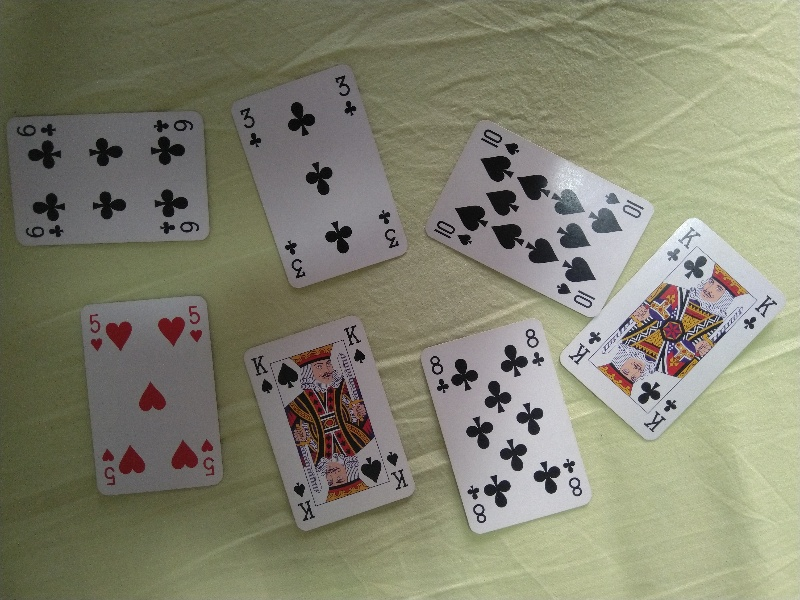3c: (236, 103, 264, 151), (373, 203, 401, 250), (333, 71, 359, 121), (281, 237, 308, 282)
5h: (185, 298, 205, 345), (99, 444, 118, 490), (199, 435, 218, 480), (86, 309, 104, 356)
6c: (20, 221, 68, 242), (155, 217, 204, 237), (152, 115, 195, 136), (14, 120, 60, 139)
8c: (428, 352, 451, 395), (467, 482, 488, 526), (525, 326, 546, 369), (562, 458, 583, 498)
Kc: (741, 291, 778, 333), (665, 224, 702, 265), (639, 398, 680, 435), (566, 330, 603, 367)
Ks: (288, 478, 317, 525), (343, 322, 370, 368), (248, 352, 274, 398), (383, 448, 410, 492)
Ts: (427, 216, 475, 248), (478, 126, 523, 158), (604, 188, 644, 221), (555, 277, 595, 308)
